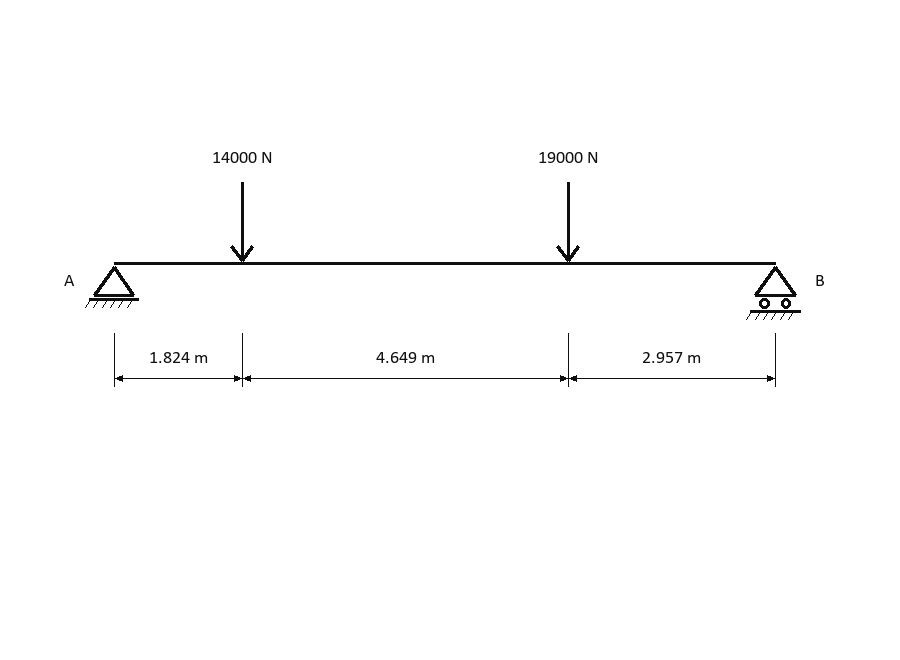pin_support: (85, 266, 139, 308)
point_load: (230, 182, 254, 262), (556, 182, 580, 262)
roller_support: (746, 266, 801, 320)
